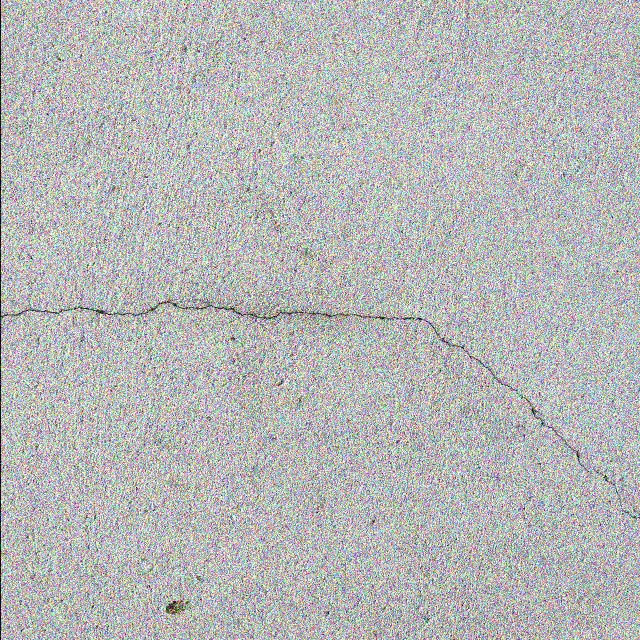SurfaceCrack: (1, 258, 640, 537)
